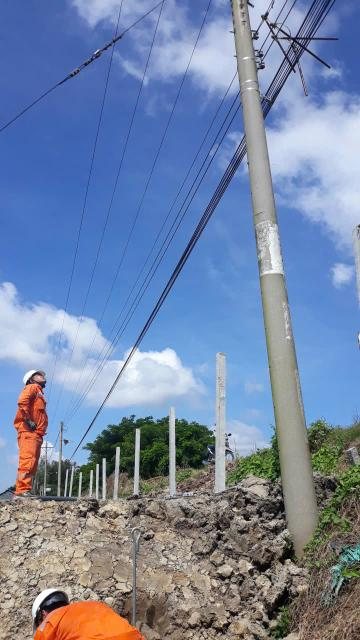gloves: (17, 412, 41, 435)
helmet: (22, 591, 71, 628), (13, 367, 57, 383)
shoes: (13, 487, 43, 506)
